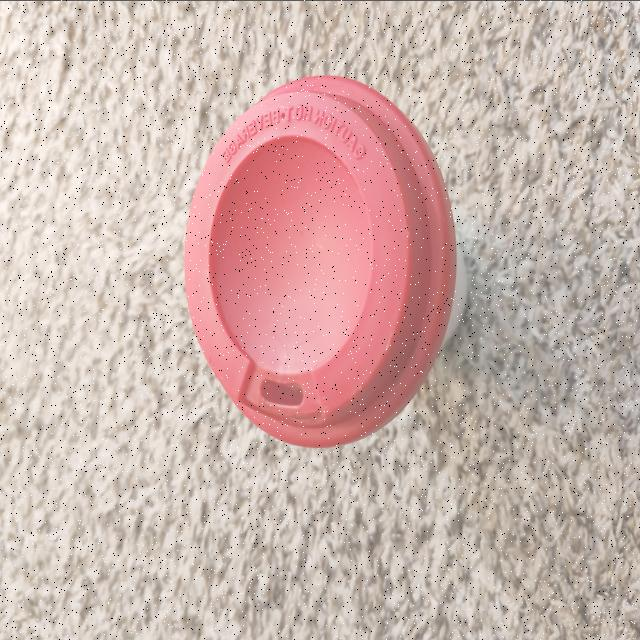mug: (182, 75, 470, 449)
